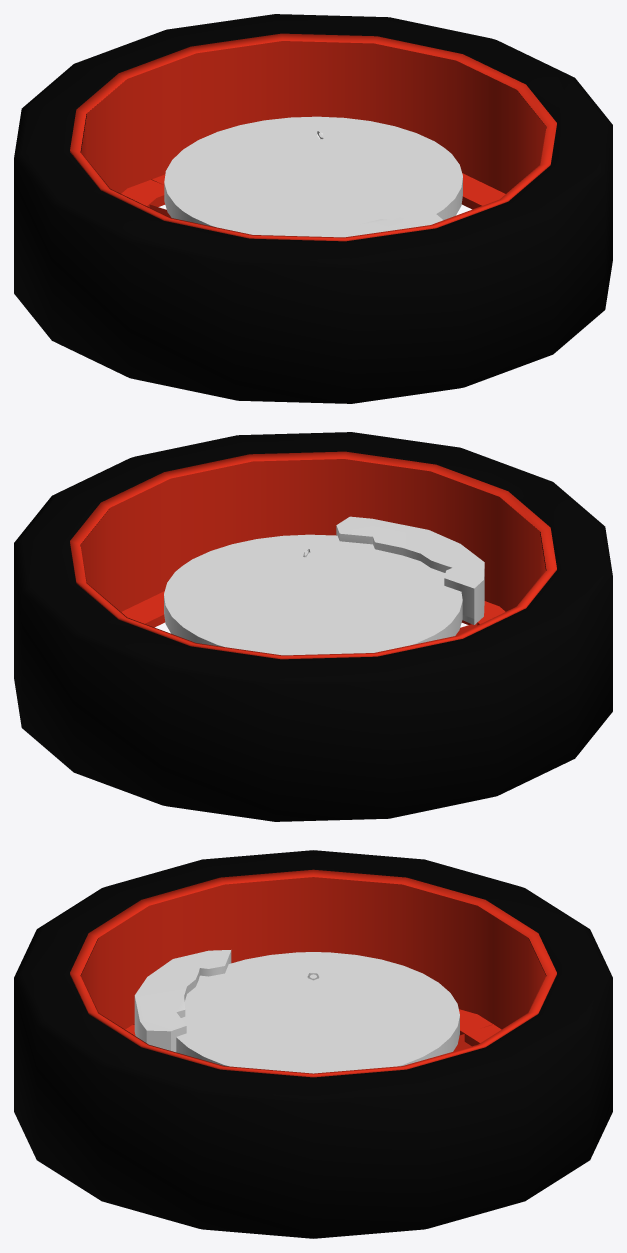
The picture shows the model from 3 angles, top to bottom: view 1: azimuth 30°, elevation 25°; view 2: azimuth 150°, elevation 25°; view 3: azimuth 270°, elevation 25°; orthographic projection.
Visible parts, largest first — view 1: FrontLeft.000; view 2: FrontLeft.000; view 3: FrontLeft.000.
Boxes of the visible parts, x1,y1,x2,y2 form: FrontLeft.000: (14,14,612,403); FrontLeft.000: (14,432,612,821); FrontLeft.000: (14,850,612,1238).
Bounding box in the file's own units: 0.2729 × 0.2729 × 0.0739.
